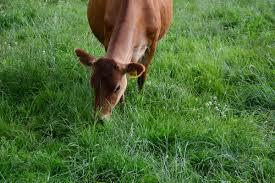cow: (74, 0, 174, 122)
